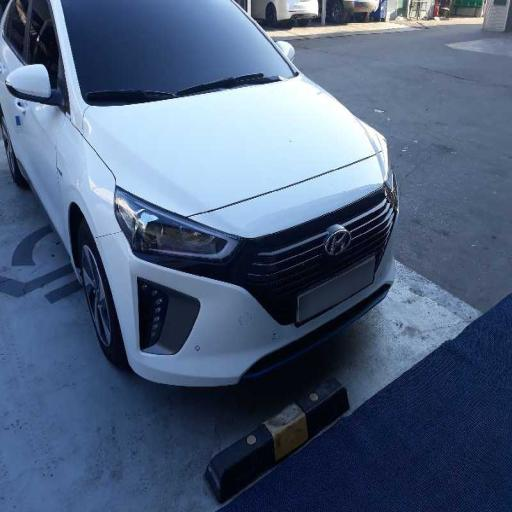normal: (0, 16, 447, 383)
